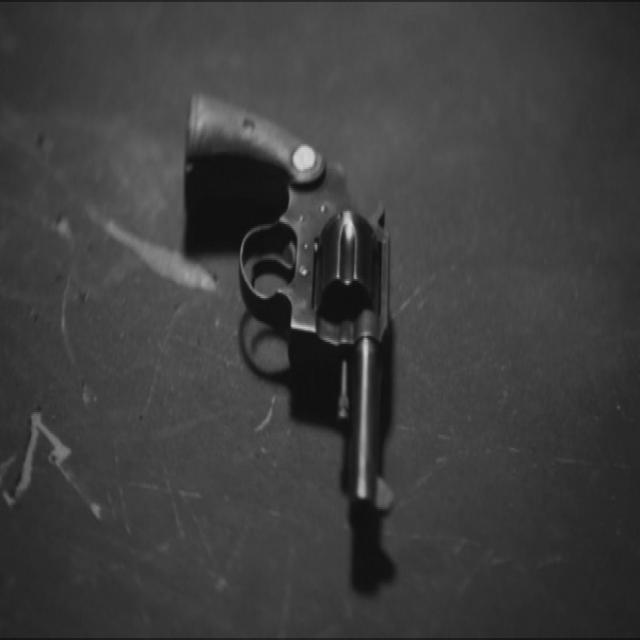weapons: (176, 75, 418, 534)
